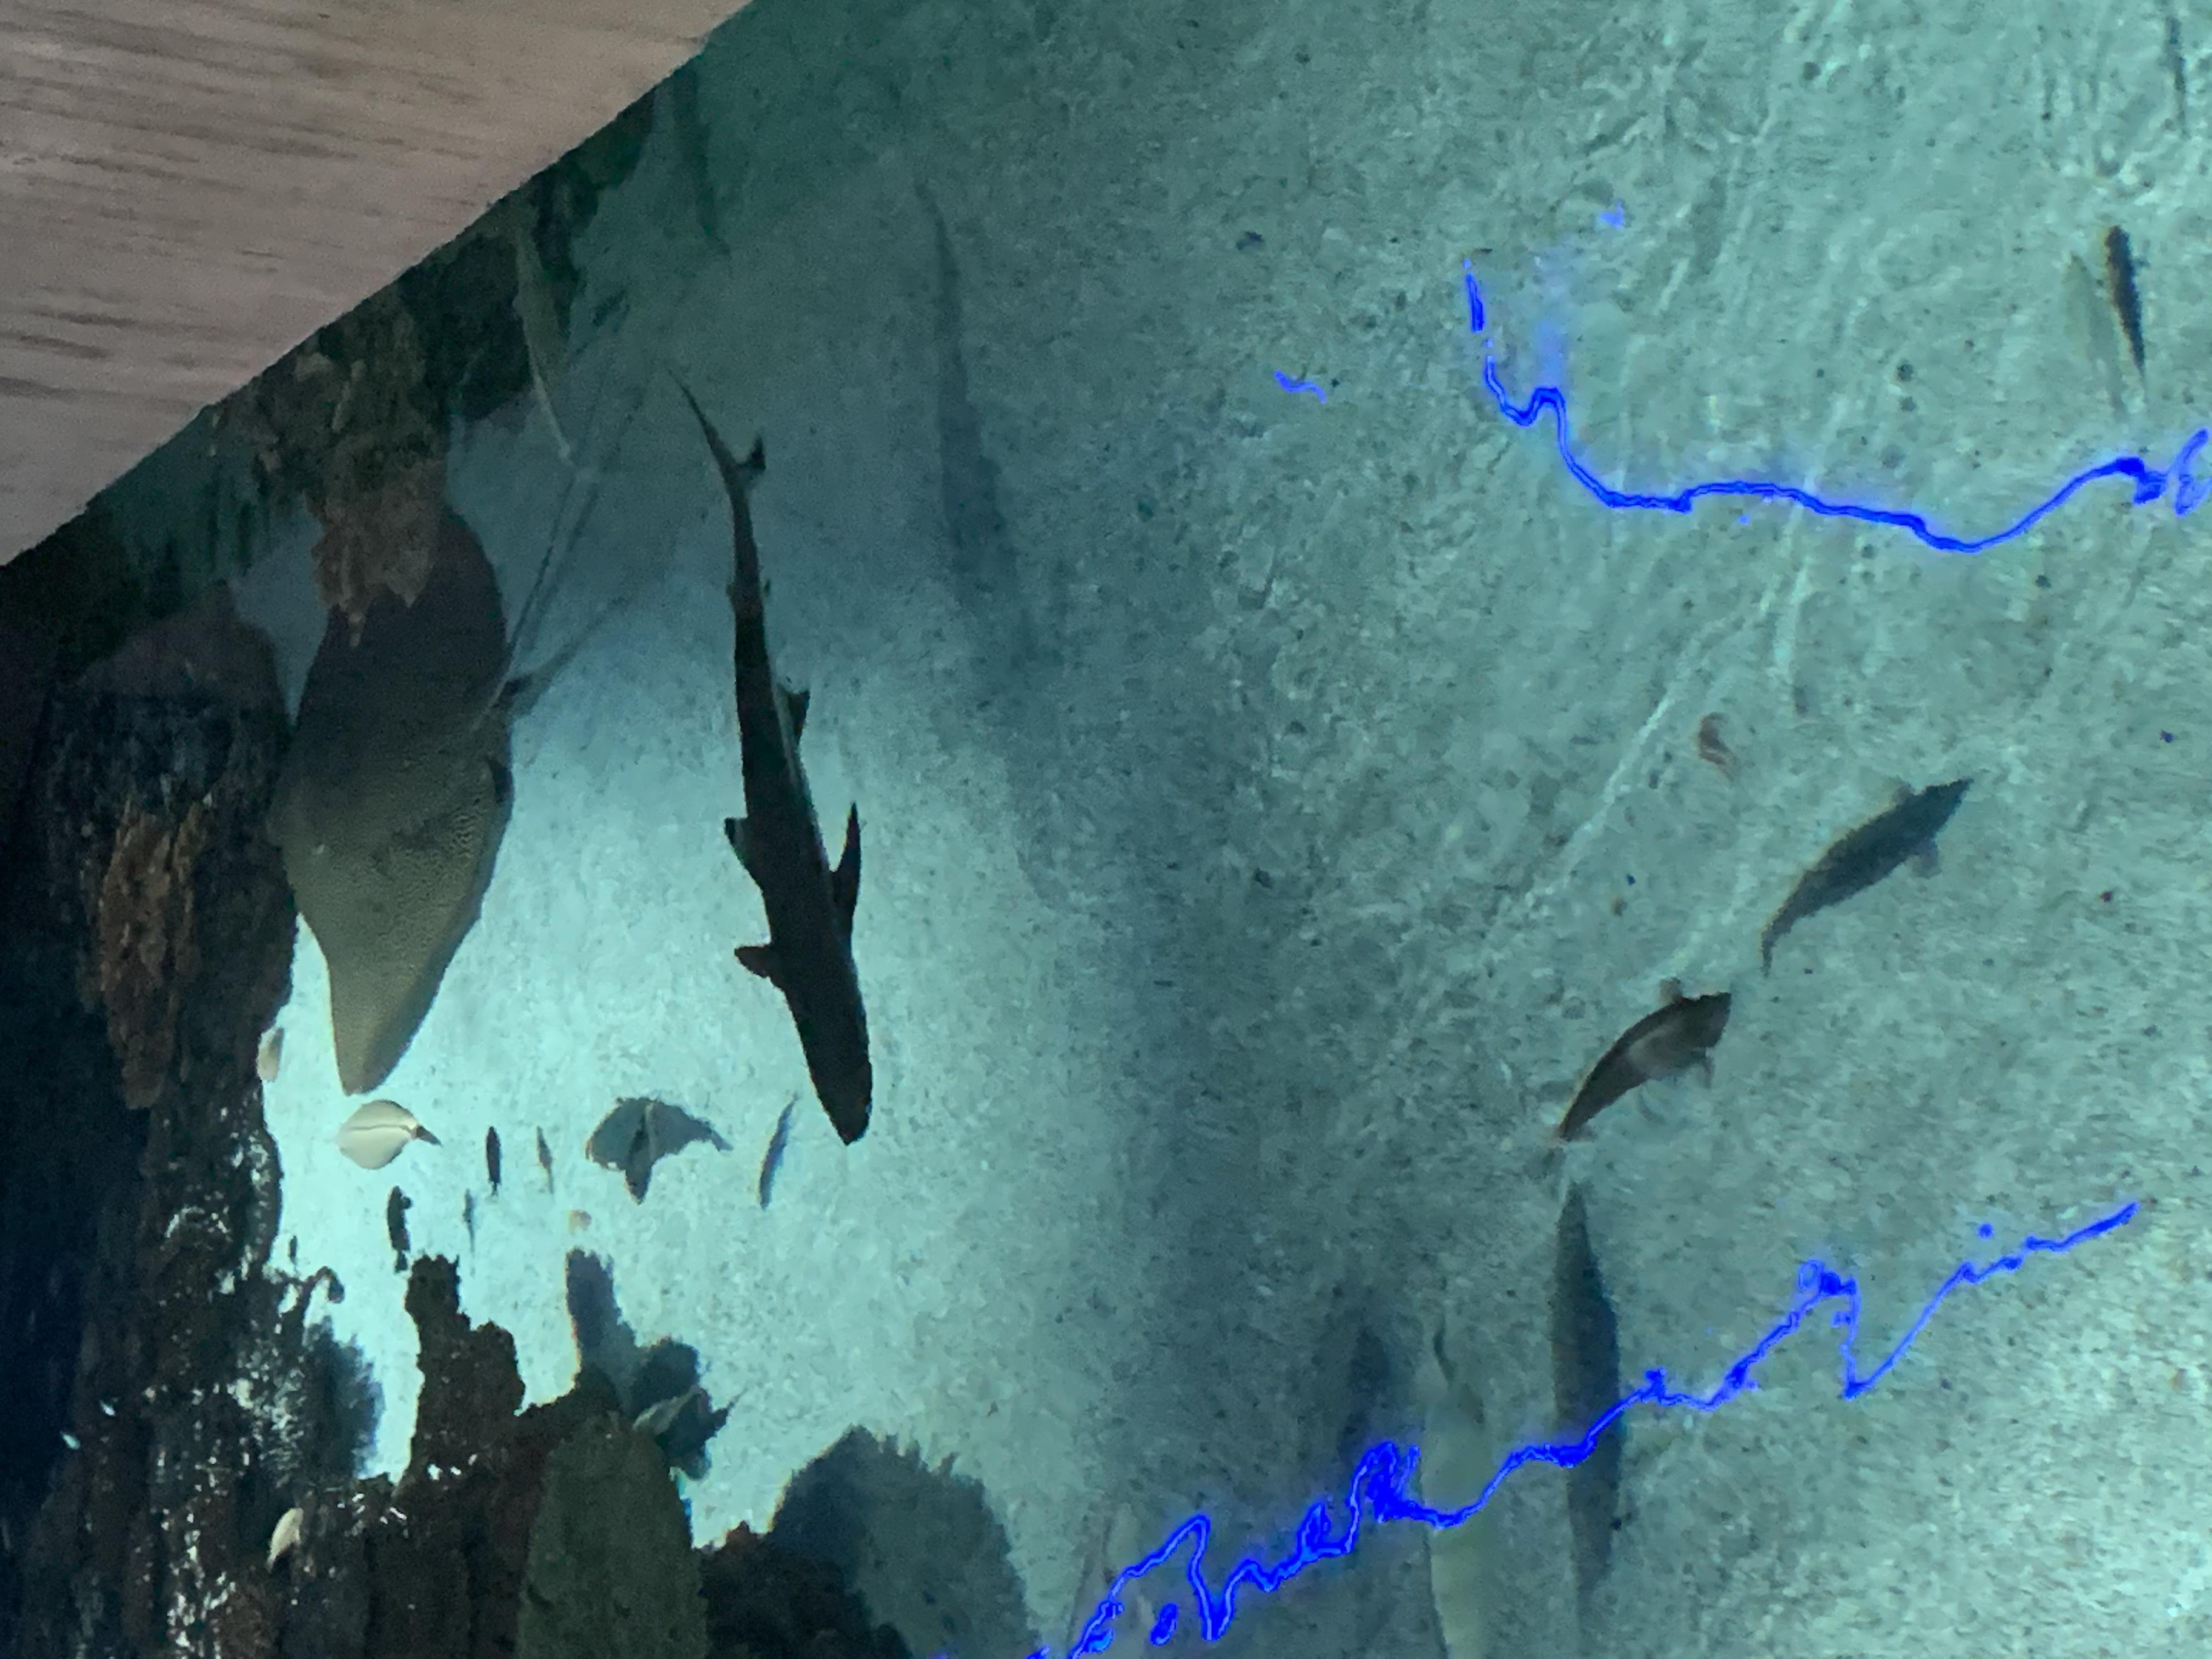fish: (1757, 770, 1982, 979), (1533, 974, 1737, 1161), (2097, 223, 2161, 422), (329, 1100, 428, 1176), (754, 1087, 805, 1216), (624, 1101, 664, 1215), (383, 1182, 415, 1279), (482, 1122, 507, 1201)
shark: (723, 434, 876, 1145)
stingray: (256, 484, 516, 1096)
